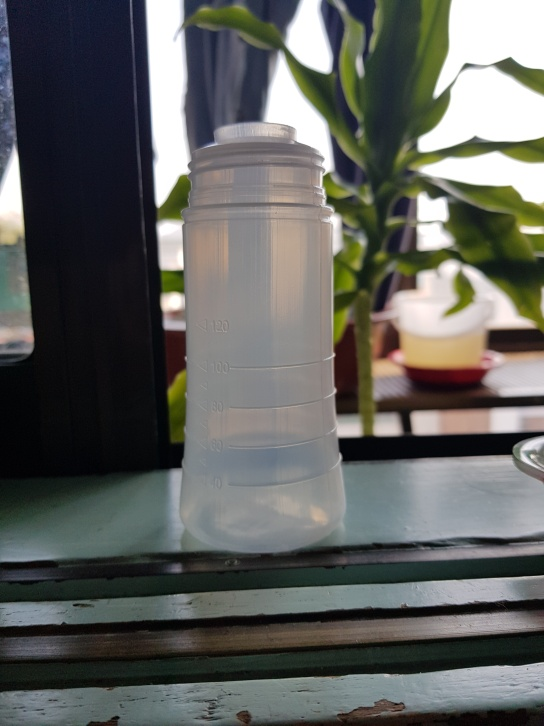Plastic: (176, 121, 355, 558)
